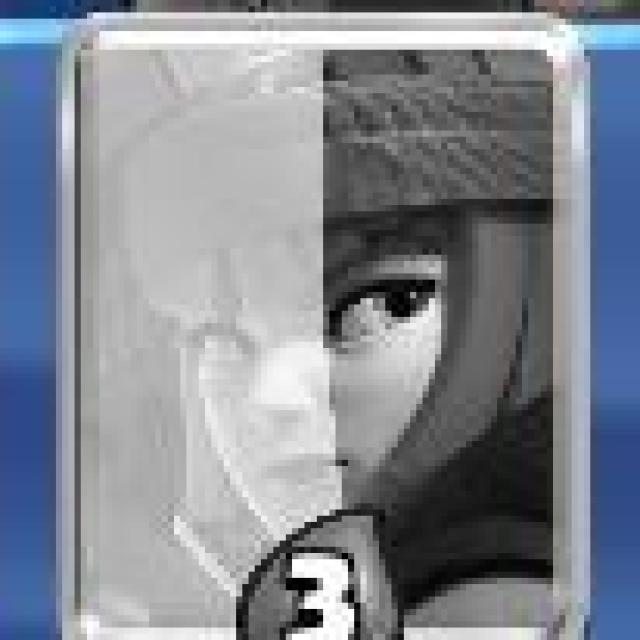Firecracker: (50, 8, 592, 638)
